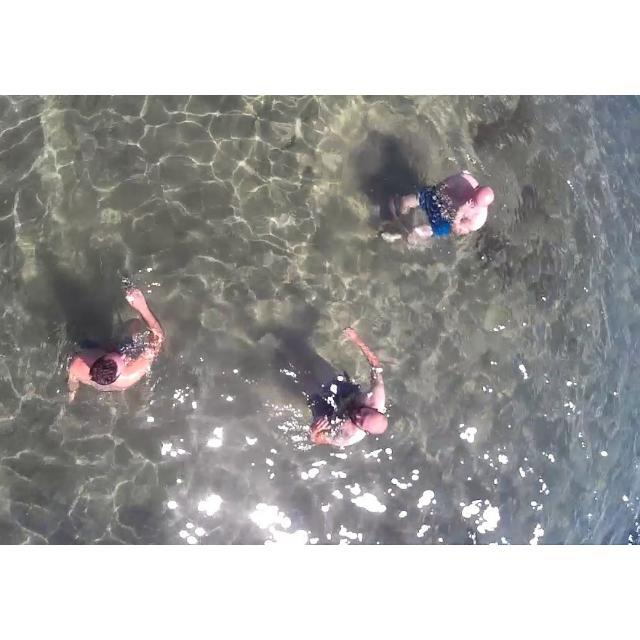human: (49, 276, 166, 415), (355, 153, 497, 258), (297, 318, 395, 453)
